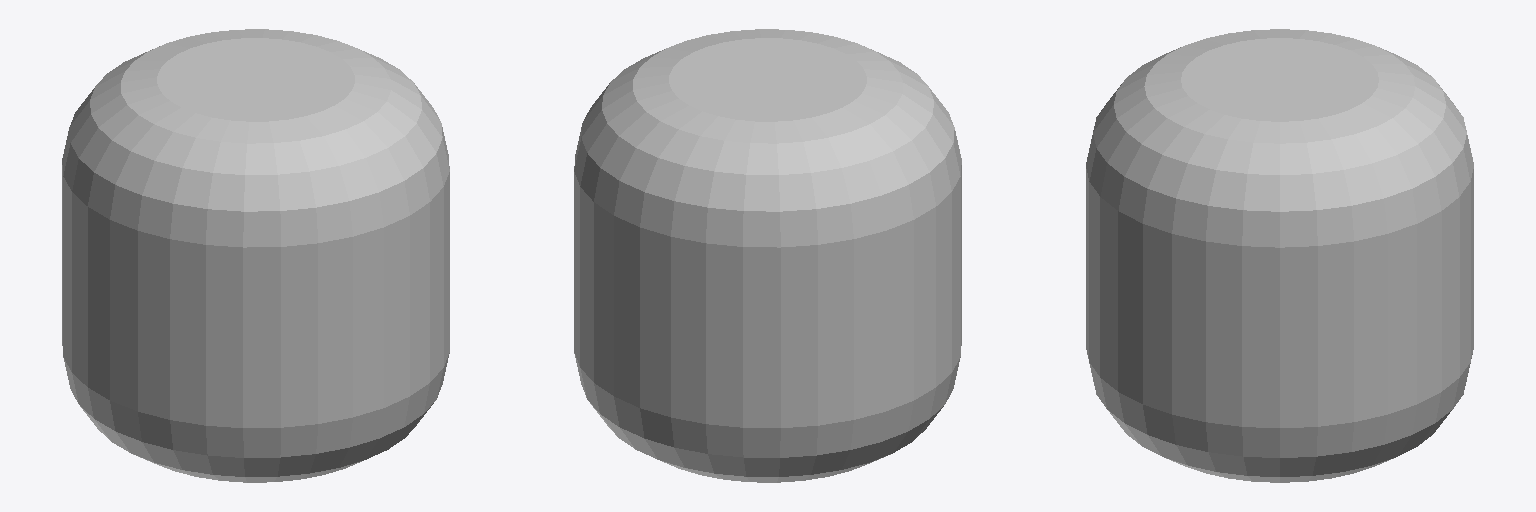
Rendered from Head.obj.
3 renders of one model, left to right at view 1: azimuth 30°, elevation 25°; view 2: azimuth 150°, elevation 25°; view 3: azimuth 270°, elevation 25°, orthographic.
Visible parts, largest first — view 1: HEAD; view 2: HEAD; view 3: HEAD.
Part boxes in pixels (x1,y1,x2,y2): HEAD: (62,29,449,482); HEAD: (574,29,961,482); HEAD: (1086,29,1473,482).
Size of the model in its own units: 1.28 by 1.28 by 1.28.